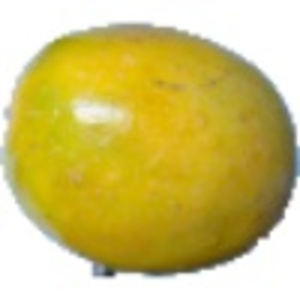maracujá: (1, 24, 300, 280)
